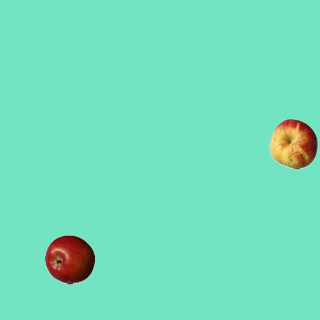Apple Braeburn: (44, 234, 94, 284)
Apple Red Yellow 1: (268, 118, 318, 168)
